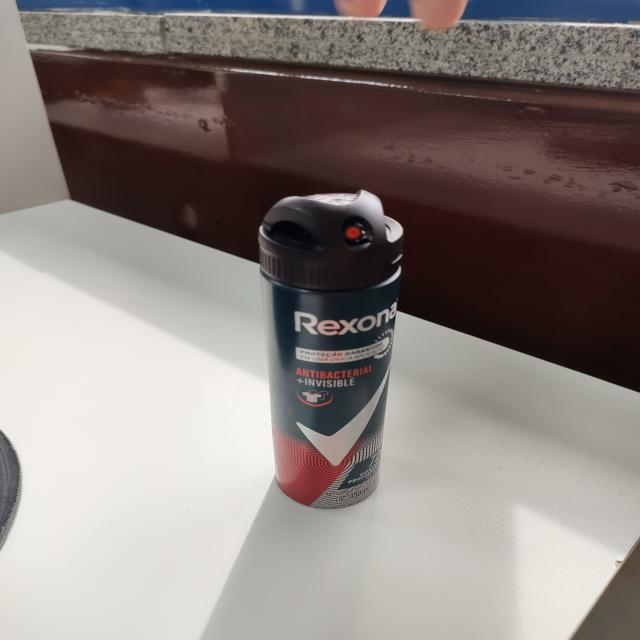Desodorante Azul: (258, 181, 407, 508)
